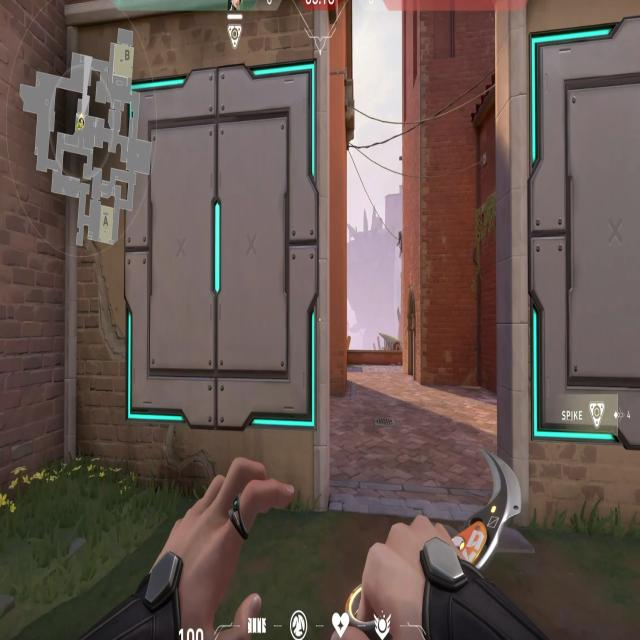Mid_Wall: (64, 4, 332, 510)
